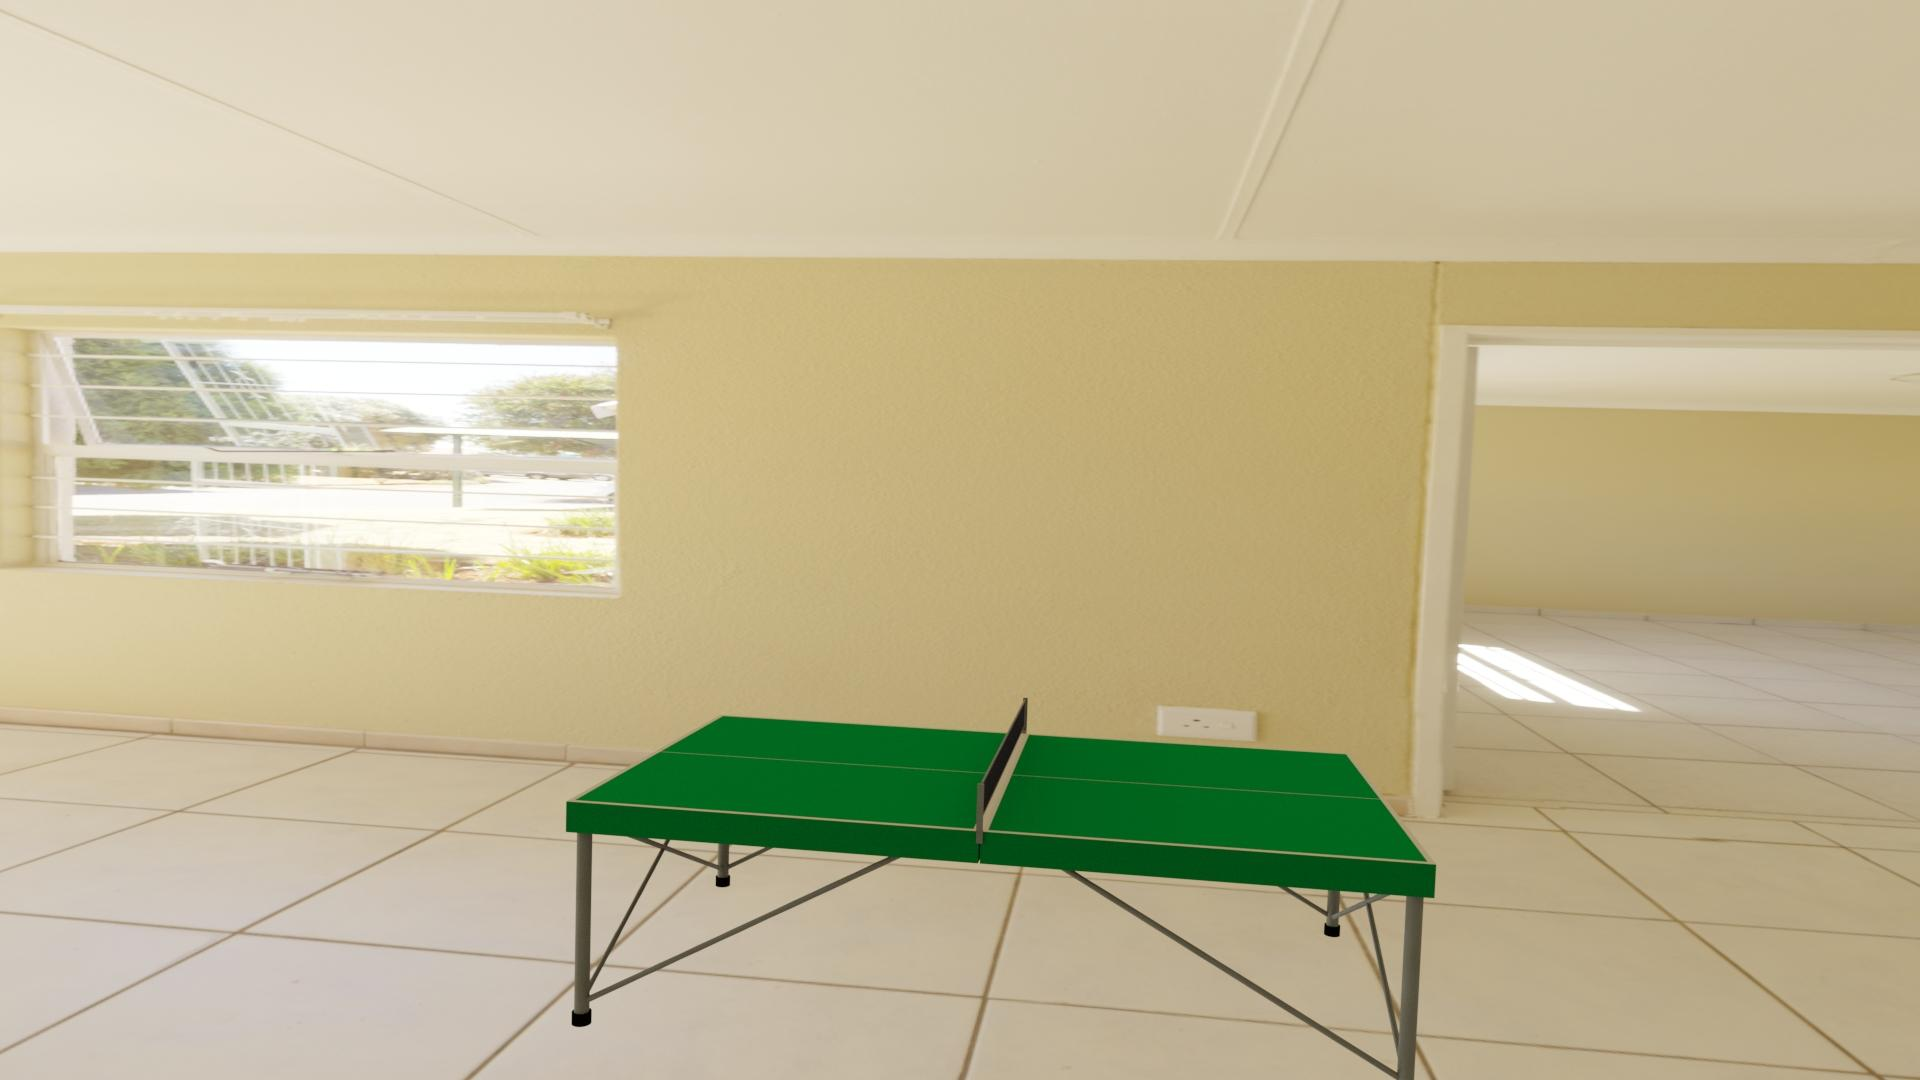table: (575, 716, 1428, 862)
